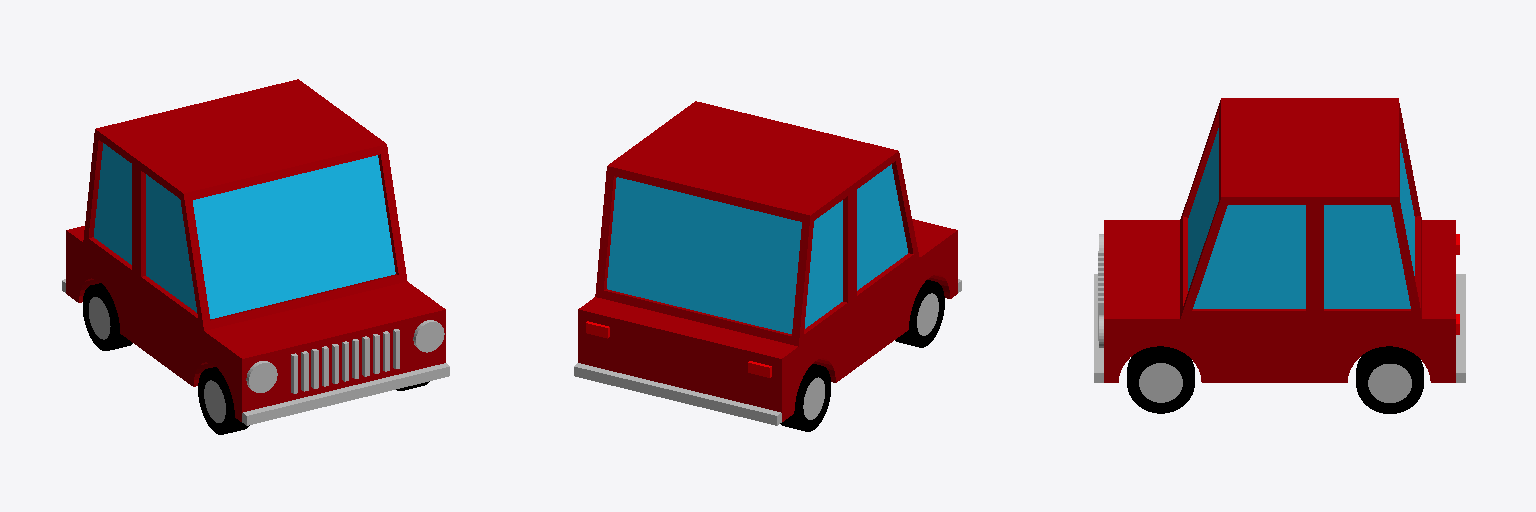
Rendered from small_car.obj.
3 renders of one model, left to right at view 1: azimuth 30°, elevation 25°; view 2: azimuth 150°, elevation 25°; view 3: azimuth 270°, elevation 25°, orthographic.
Parts seen in each view (by area): view 1: Body, Wheels, Grille, Bumpers, Front Lights; view 2: Body, Wheels, Bumpers, Back Lights; view 3: Body, Wheels, Bumpers.
Boxes of the visible parts, x1,y1,x2,y2 form: Body: [66, 79, 445, 421]; Wheels: [83, 283, 429, 434]; Grille: [291, 329, 399, 393]; Bumpers: [62, 279, 449, 425]; Front Lights: [246, 320, 444, 392]; Body: [578, 101, 957, 421]; Wheels: [780, 280, 944, 431]; Bumpers: [574, 279, 961, 425]; Back Lights: [586, 321, 771, 377]; Body: [1104, 98, 1455, 382]; Wheels: [1127, 346, 1423, 413]; Bumpers: [1094, 274, 1465, 382].
Bounding box in the file's own units: 4 × 4.08 × 6.32.